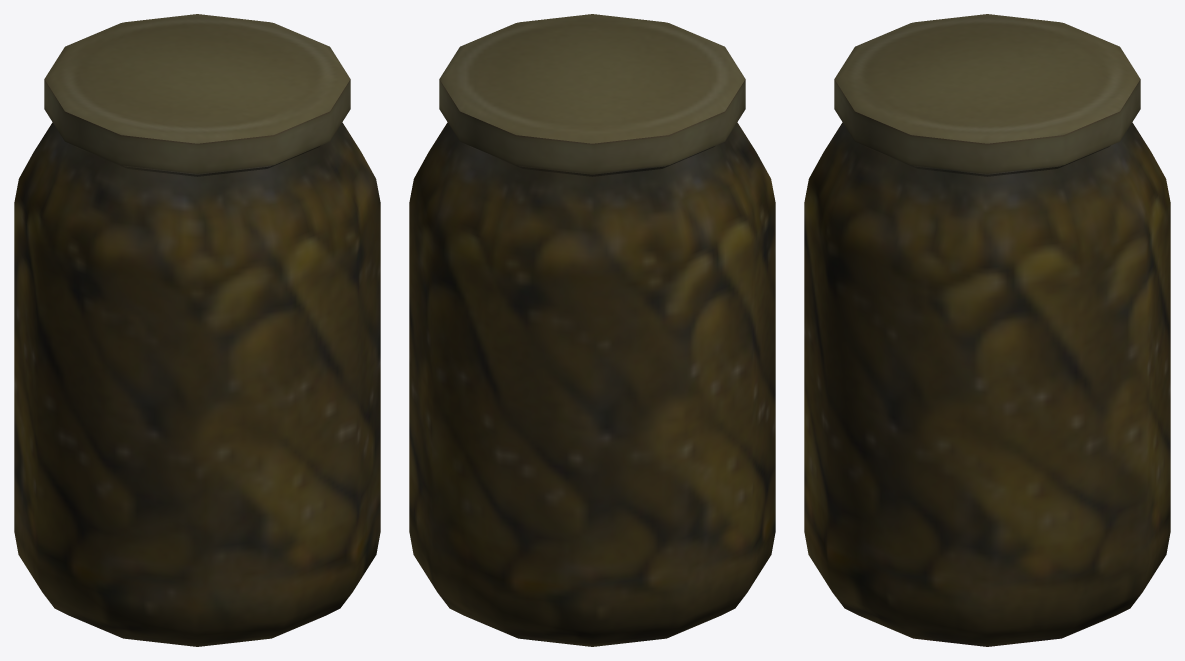
Rendered from pickles_jar_mp_1_small.obj.
3 renders of one model, left to right at view 1: azimuth 30°, elevation 25°; view 2: azimuth 150°, elevation 25°; view 3: azimuth 270°, elevation 25°, orthographic.
Parts seen in each view (by area): view 1: pickles_jar_mp_1_small; view 2: pickles_jar_mp_1_small; view 3: pickles_jar_mp_1_small.
Boxes of the visible parts, box(x1,y1,x2,y2) form: pickles_jar_mp_1_small: box(14, 14, 380, 646); pickles_jar_mp_1_small: box(409, 14, 775, 646); pickles_jar_mp_1_small: box(804, 14, 1170, 646).
Size of the model in its own units: 0.1294 by 0.1982 by 0.1294.
